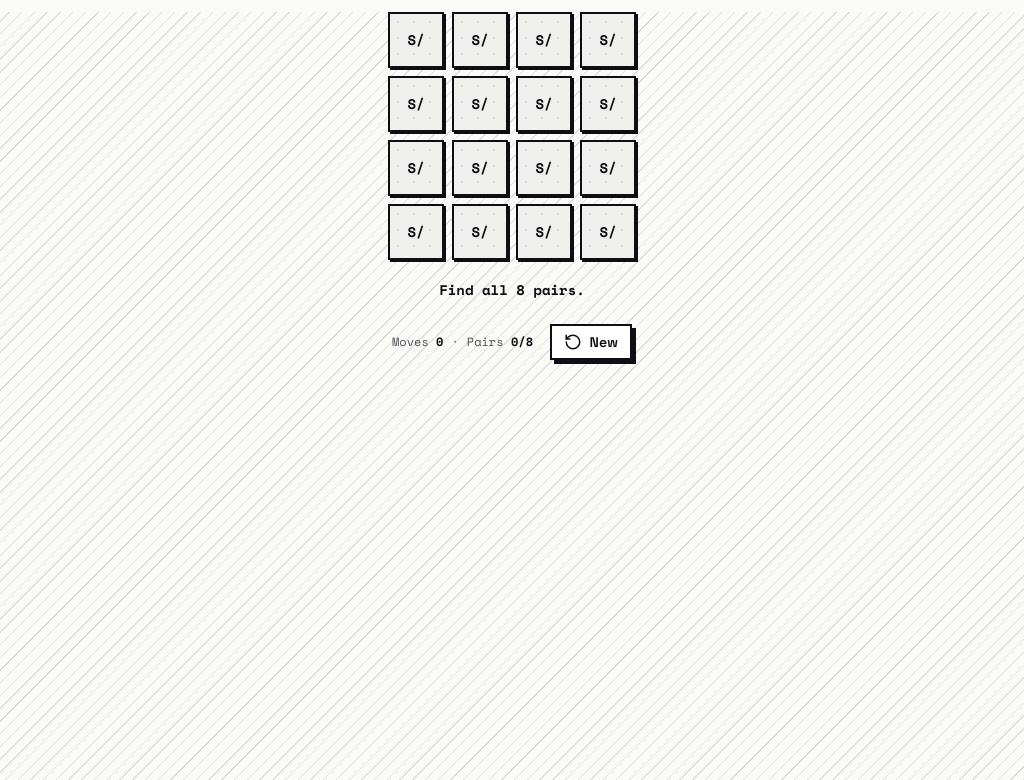
Test: MemoryLab › a matching pair stays face up and counts as a move
Click the 1st button "S/". click: (416, 40)
box: [388,12,444,68]
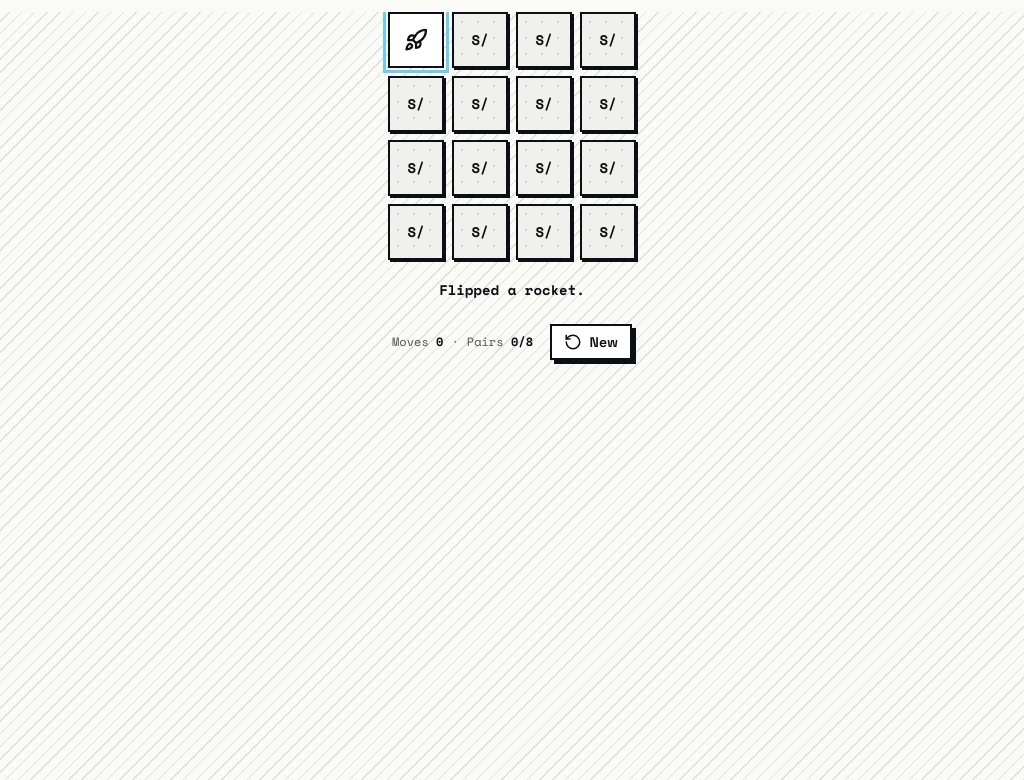
Click the 2nd button "S/". click: (480, 40)
box: [452,12,508,68]
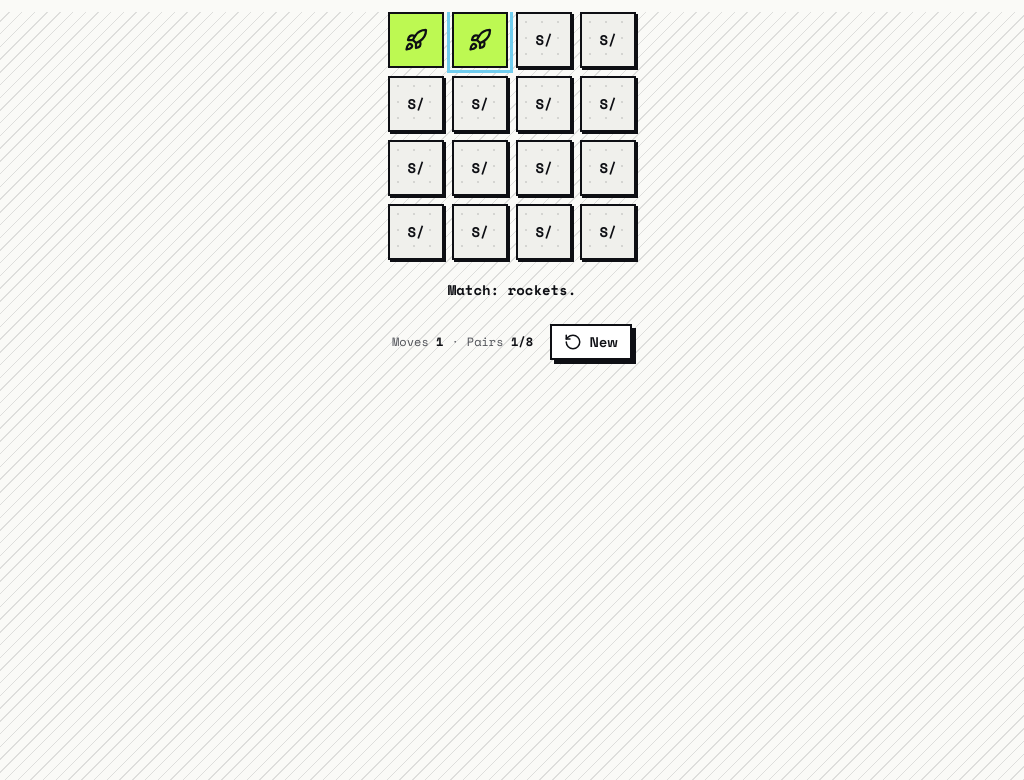
Expected: the text "Match: rockets." is shown, [448,280,576,304]
